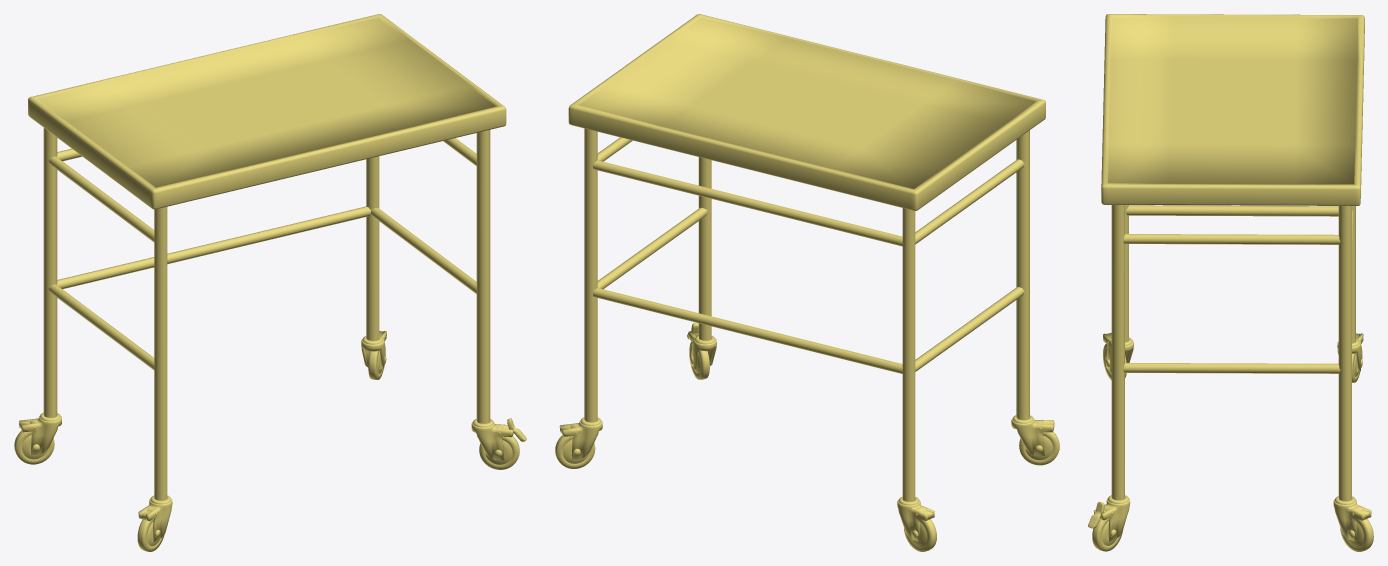
Rendered from Small_Troly.fbx.
3 views of the same model, side by side, from view 1: azimuth 30°, elevation 25°; view 2: azimuth 150°, elevation 25°; view 3: azimuth 270°, elevation 25° (orthographic).
Visible parts, largest first — view 1: Small_toly; view 2: Small_toly; view 3: Small_toly.
Boxes of the visible parts, x1=… form: Small_toly: x1=14, y1=14, x2=526, y2=551; Small_toly: x1=555, y1=14, x2=1059, y2=551; Small_toly: x1=1088, y1=14, x2=1373, y2=551.
Size of the model in its own units: 433 by 394 by 279.
